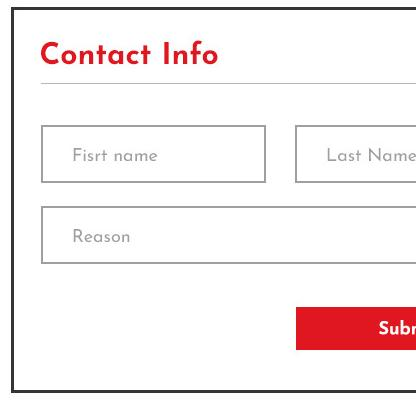field: (39, 124, 269, 184)
